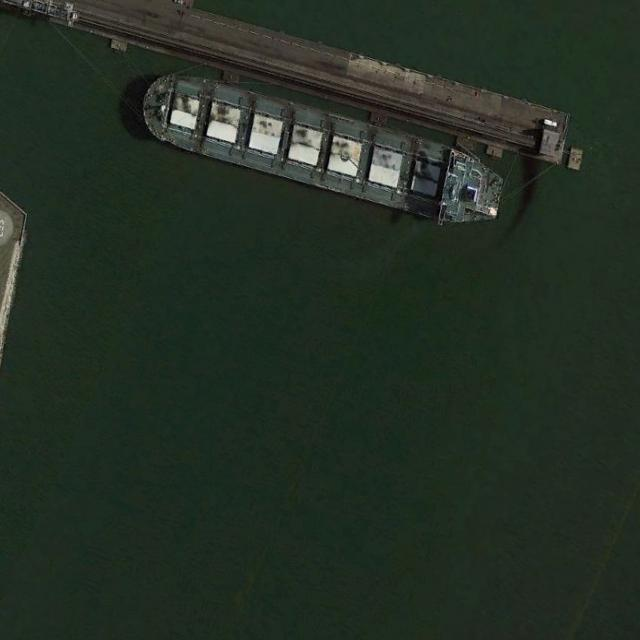ship: (140, 67, 502, 225)
